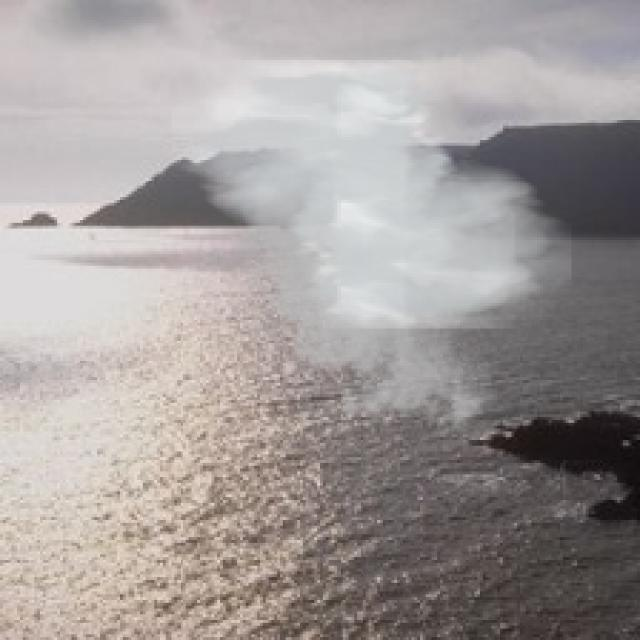smoke: (172, 60, 572, 443)
